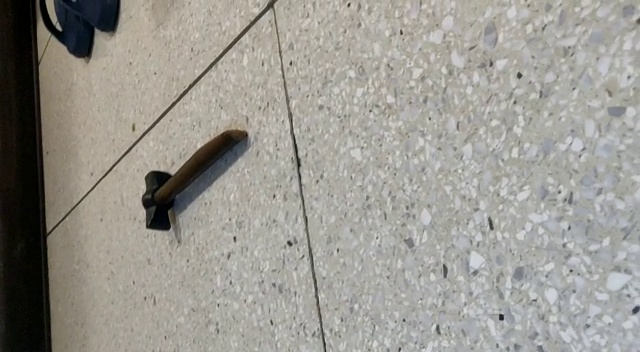hammer: (139, 127, 245, 233)
